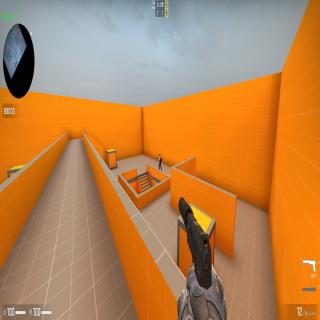T-Body: (158, 154, 162, 171)
T-Head: (160, 154, 160, 157)
